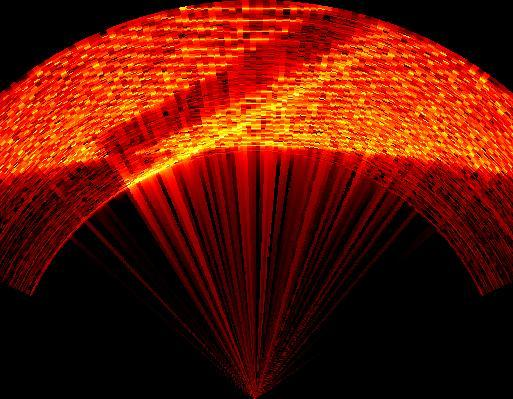pipe: (90, 12, 397, 187)
